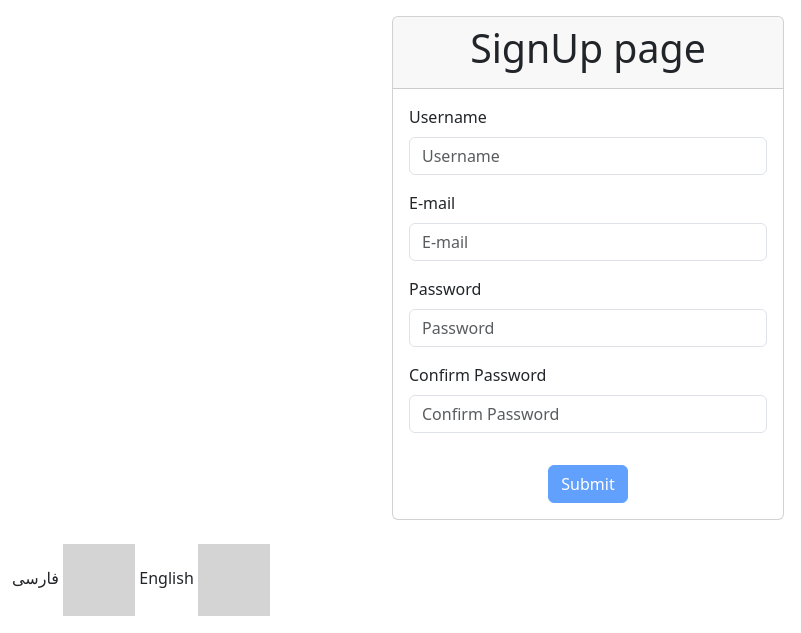
Test case: SignUp page › Internationalization › shows text in FA after selecting FA language
This screenshot has width=801, height=633.
Check: the heading "SignUp page" is shown, box [470, 21, 706, 75]
Click the element titled "فارسی" at (74, 578), box [12, 567, 135, 589]
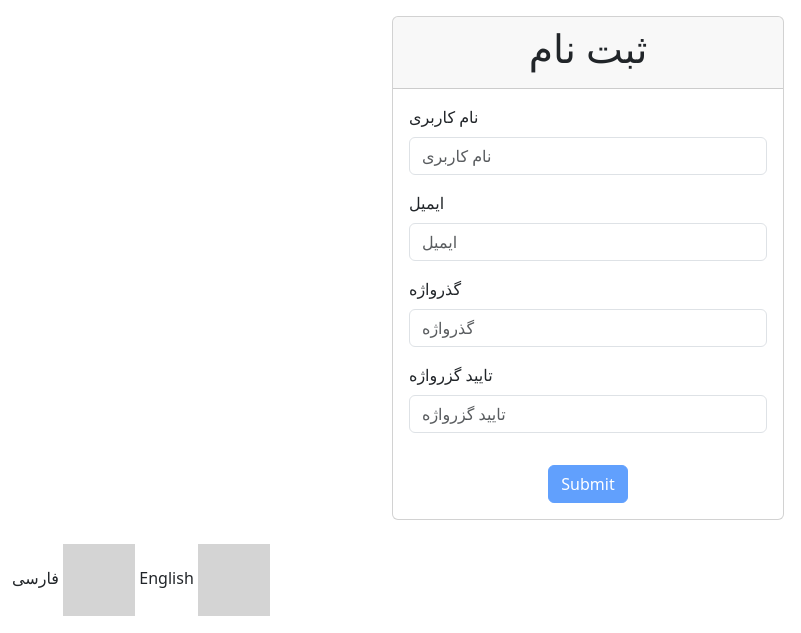
Check: the heading "ثبت نام" is shown, box [529, 21, 647, 75]
